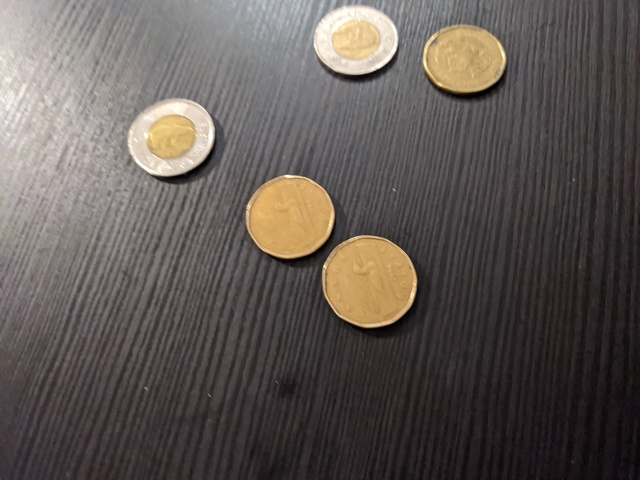loonie: (320, 239, 423, 330), (243, 167, 335, 247), (423, 24, 509, 99)
twonie: (125, 98, 222, 180), (301, 11, 408, 77)
